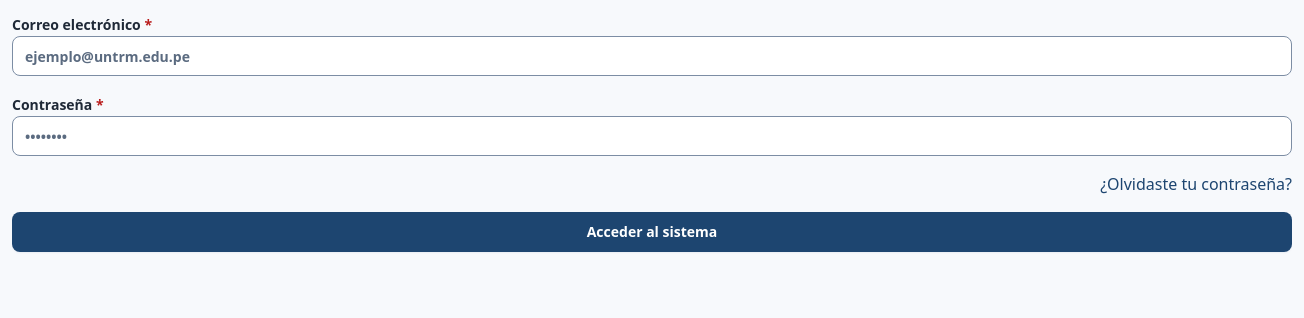
Scenario: LoginForm component › validates email and password fields before sending (no network request made)
What coordinates should you click on to do the following:
click the button "Acceder al sistema"
I would click on:
 (652, 232)
Its box is [12,212,1292,252].
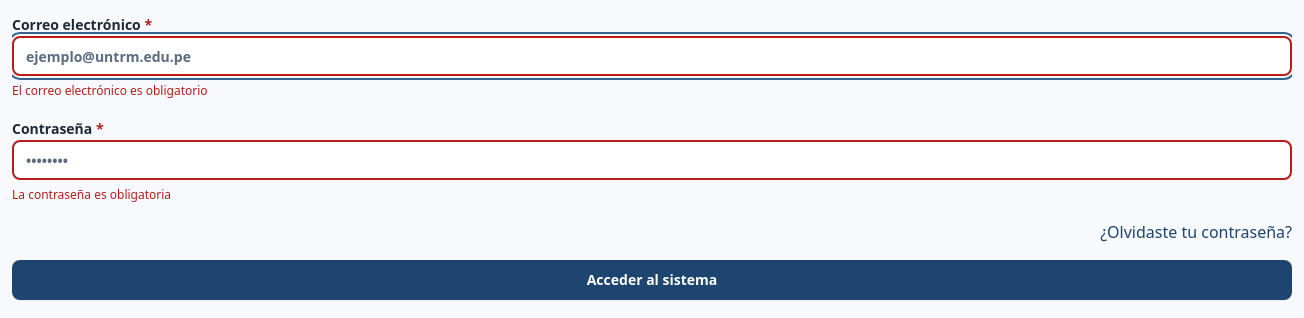
Check: the text "El correo electrónico es obligatorio" is shown, box [12,82,208,99]
Check: the text "La contraseña es obligatoria" is shown, box [12,186,171,203]
